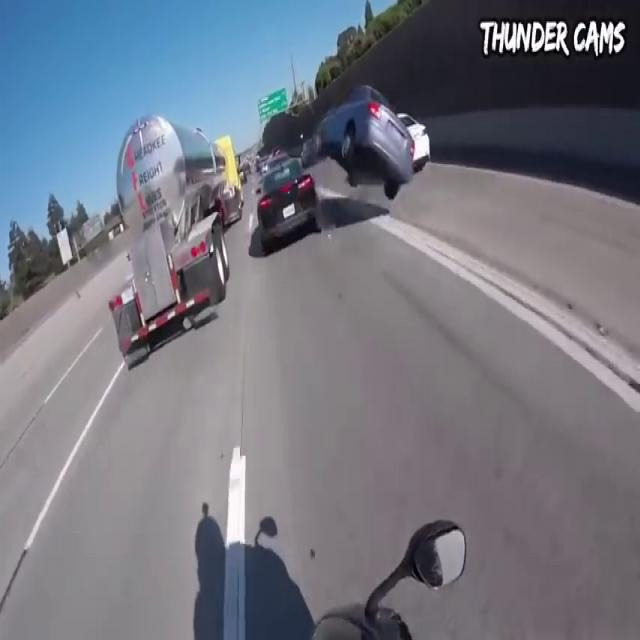accident: (308, 76, 420, 215)
